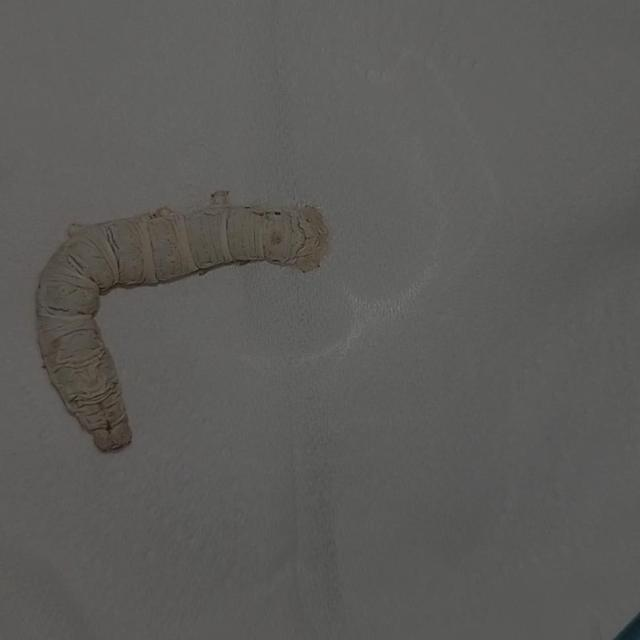Healthy: (14, 168, 358, 478)
